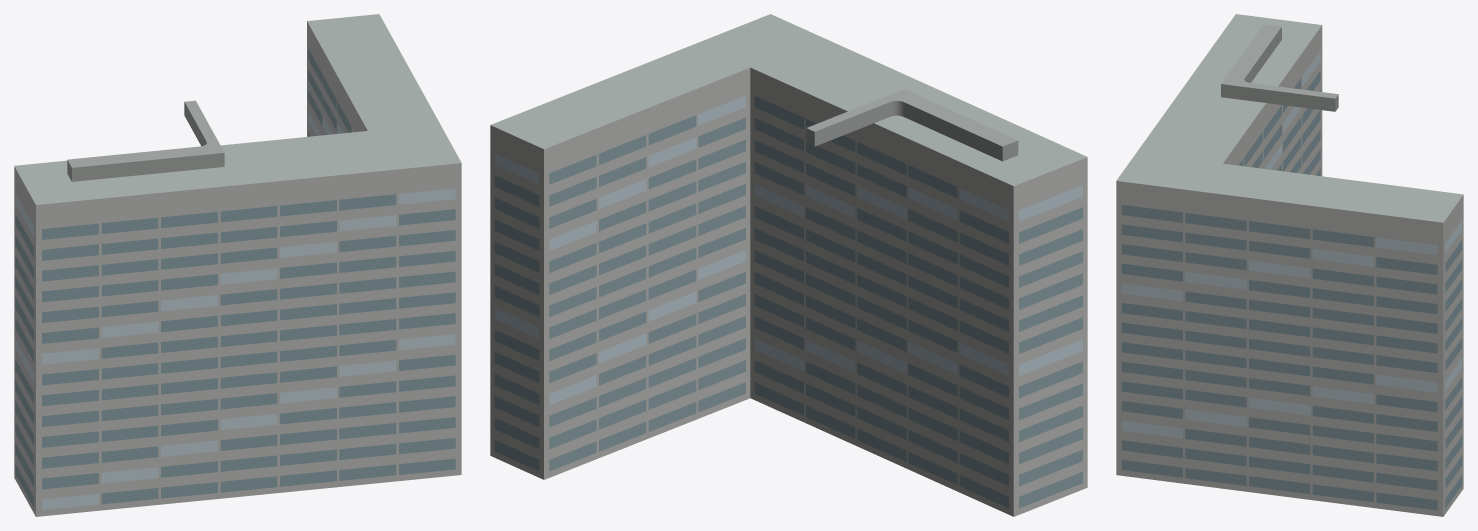
File: fallback-olympic-park-foreon-306.glb
3 renders of one model, left to right at view 1: azimuth 30°, elevation 25°; view 2: azimuth 150°, elevation 25°; view 3: azimuth 270°, elevation 25°, orthographic. The views are drawn at different scales.
Visible parts, largest first — view 1: fallback-olympic-park-foreon-306; view 2: fallback-olympic-park-foreon-306; view 3: fallback-olympic-park-foreon-306.
Part boxes in pixels (<box>): fallback-olympic-park-foreon-306: <box>14,14,461,516</box>; fallback-olympic-park-foreon-306: <box>490,14,1087,516</box>; fallback-olympic-park-foreon-306: <box>1116,14,1463,516</box>.
Bounding box in the file's own units: 69.61 × 47.81 × 48.97.
